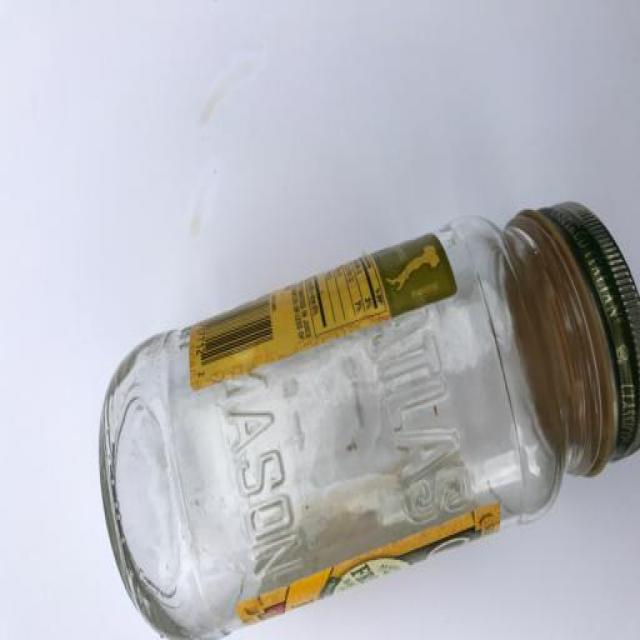glass: (83, 191, 640, 628)
